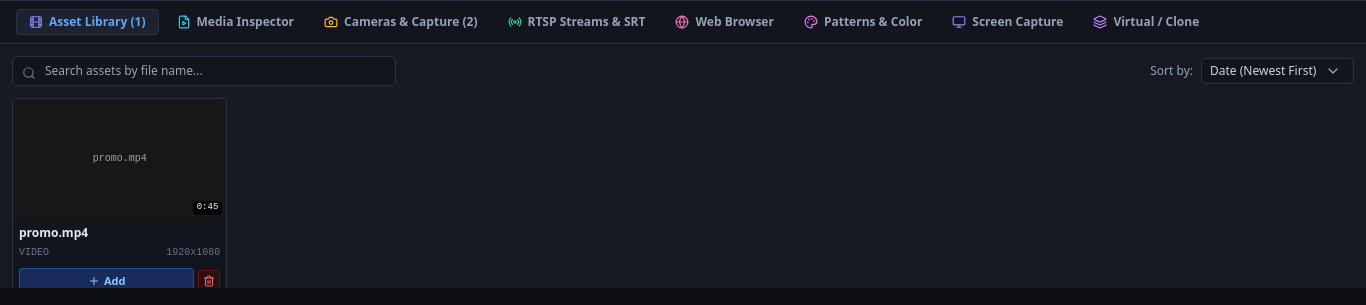
Test case: LiveStudio Pro Phase 2 Frontend › renders InputLibrary tabs: Asset Library, Media Inspector, Cameras, RTSP, Patterns
Expected: the text "Asset Library (1)" is shown, [49,14,146,30]
Expected: the text "Media Inspector" is shown, [196,14,294,30]
// Switch to Cameras tab
What coordinates should you click on to do the following:
click the button "Cameras & Capture (2)"
I would click on:
 (401, 22)
Its box is [312,10,490,34].
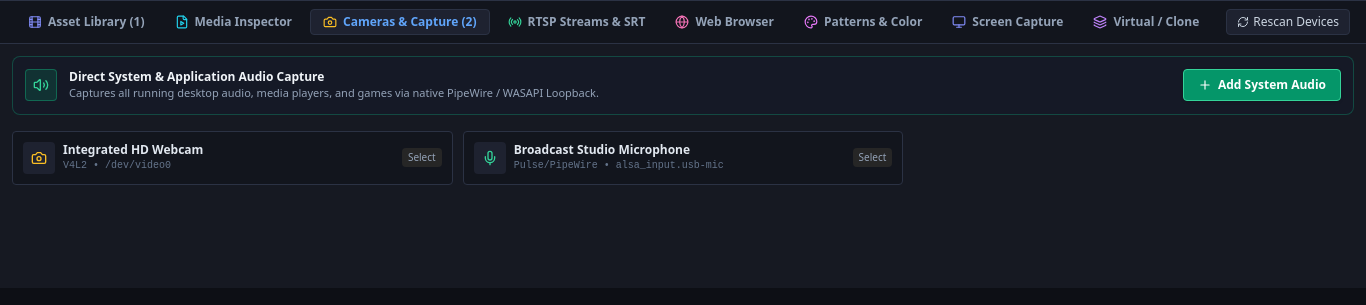
Expected: the text "Integrated HD Webcam" is shown, [63,142,203,158]
// Switch to RTSP tab
What coordinates should you click on to do the following:
click the button "RTSP Streams & SRT"
I would click on:
 (576, 22)
Its box is [496,10,658,34].
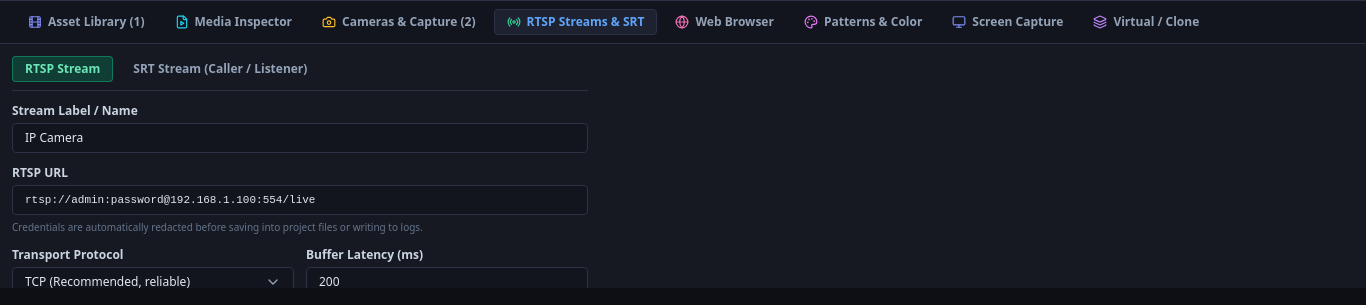
Expected: the text "Transport Protocol" is shown, [12,246,124,263]
